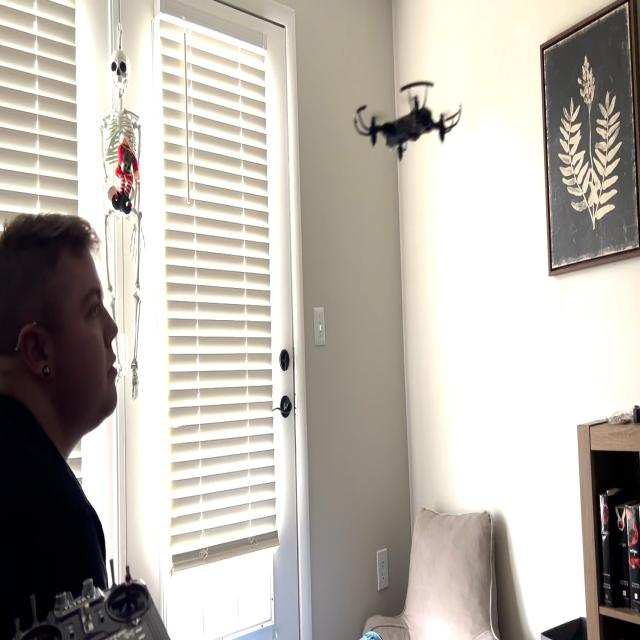drone: (349, 72, 466, 166)
